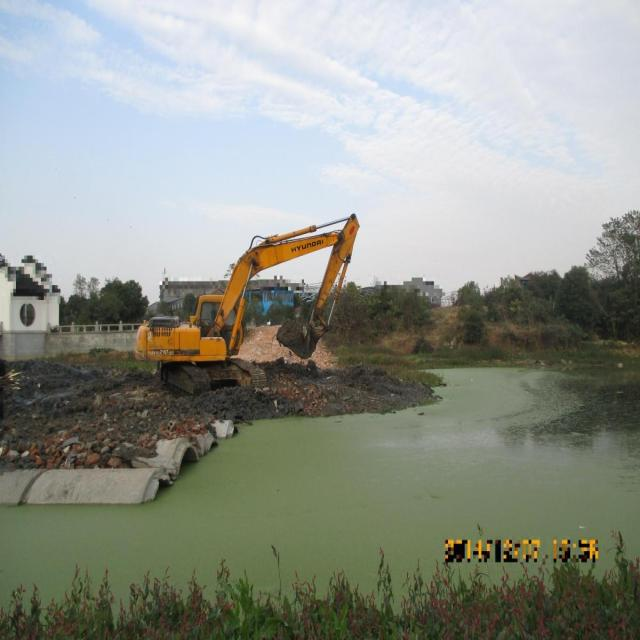excavator: (133, 202, 373, 398)
